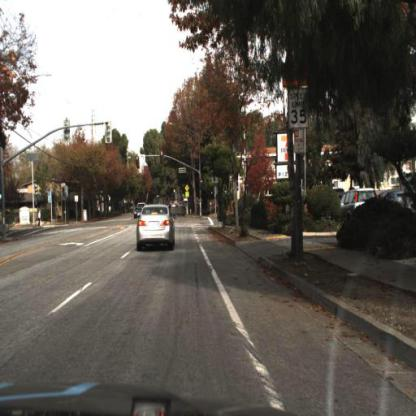car: (134, 204, 176, 252), (333, 182, 377, 216), (342, 186, 382, 212)
pedestrian: (35, 201, 43, 233)
trafficLight: (135, 153, 142, 172)
trafficLight-Red: (198, 173, 206, 194), (159, 148, 166, 169), (200, 176, 206, 191)
